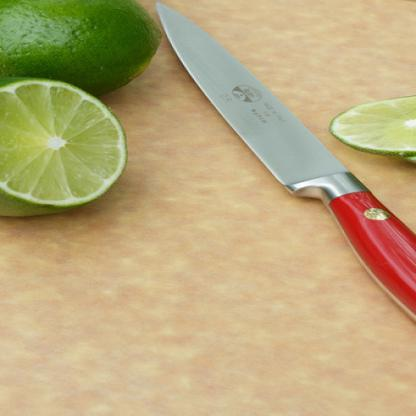knife: (151, 1, 415, 415)
